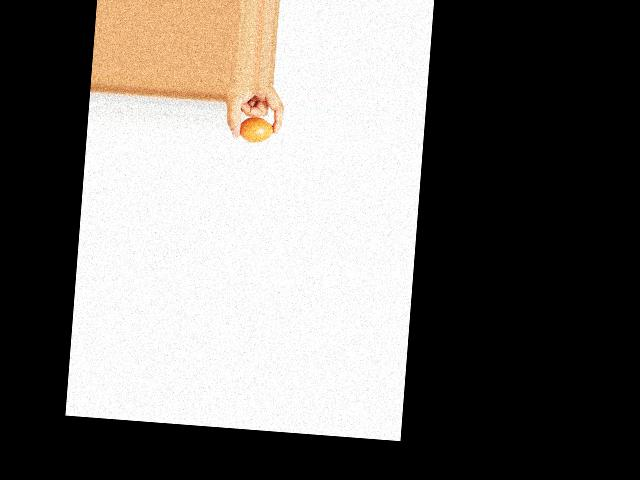egg: (238, 116, 274, 144)
